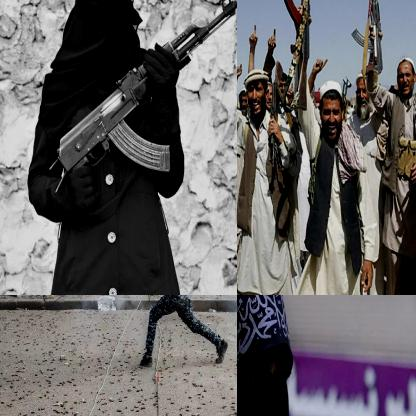rifle: (48, 0, 236, 190), (283, 0, 315, 114), (261, 75, 292, 171), (349, 0, 385, 79)
